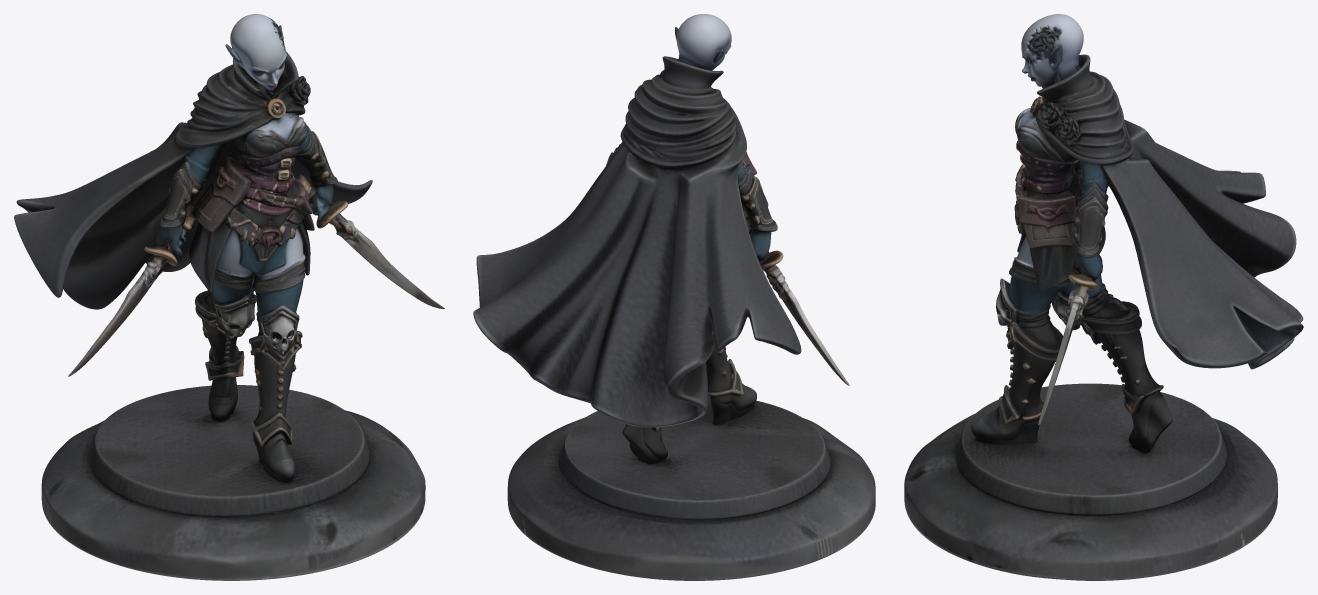
File: rogue.glb
The picture shows the model from 3 angles, left to right: view 1: azimuth 30°, elevation 25°; view 2: azimuth 150°, elevation 25°; view 3: azimuth 270°, elevation 25°; orthographic projection. The views are drawn at different scales.
Parts seen in each view (by area): view 1: Object_6, Object_8, Object_7, Object_9, Object_5, Object_10; view 2: Object_9, Object_8, Object_6, Object_5, Object_7, Object_10; view 3: Object_8, Object_6, Object_9, Object_7, Object_5, Object_10.
Part boxes in pixels (x1,y1,x2,y2): Object_6: (16,22,425,580); Object_8: (41,67,375,536); Object_7: (67,29,422,565); Object_9: (14,14,372,506); Object_5: (53,76,427,580); Object_10: (84,15,444,553); Object_9: (473,14,839,580); Object_8: (494,80,852,576); Object_6: (523,14,875,577); Object_5: (473,24,864,580); Object_7: (508,18,874,541); Object_10: (569,15,872,516); Object_8: (1031,71,1224,578); Object_6: (904,16,1275,573); Object_9: (1042,14,1303,580); Object_7: (1006,21,1172,580); Object_5: (940,33,1303,572); Object_10: (1027,19,1080,580).
Size of the model in its own units: 1.48 by 2 by 1.48.
Materials: 1 (1 with a texture image).
